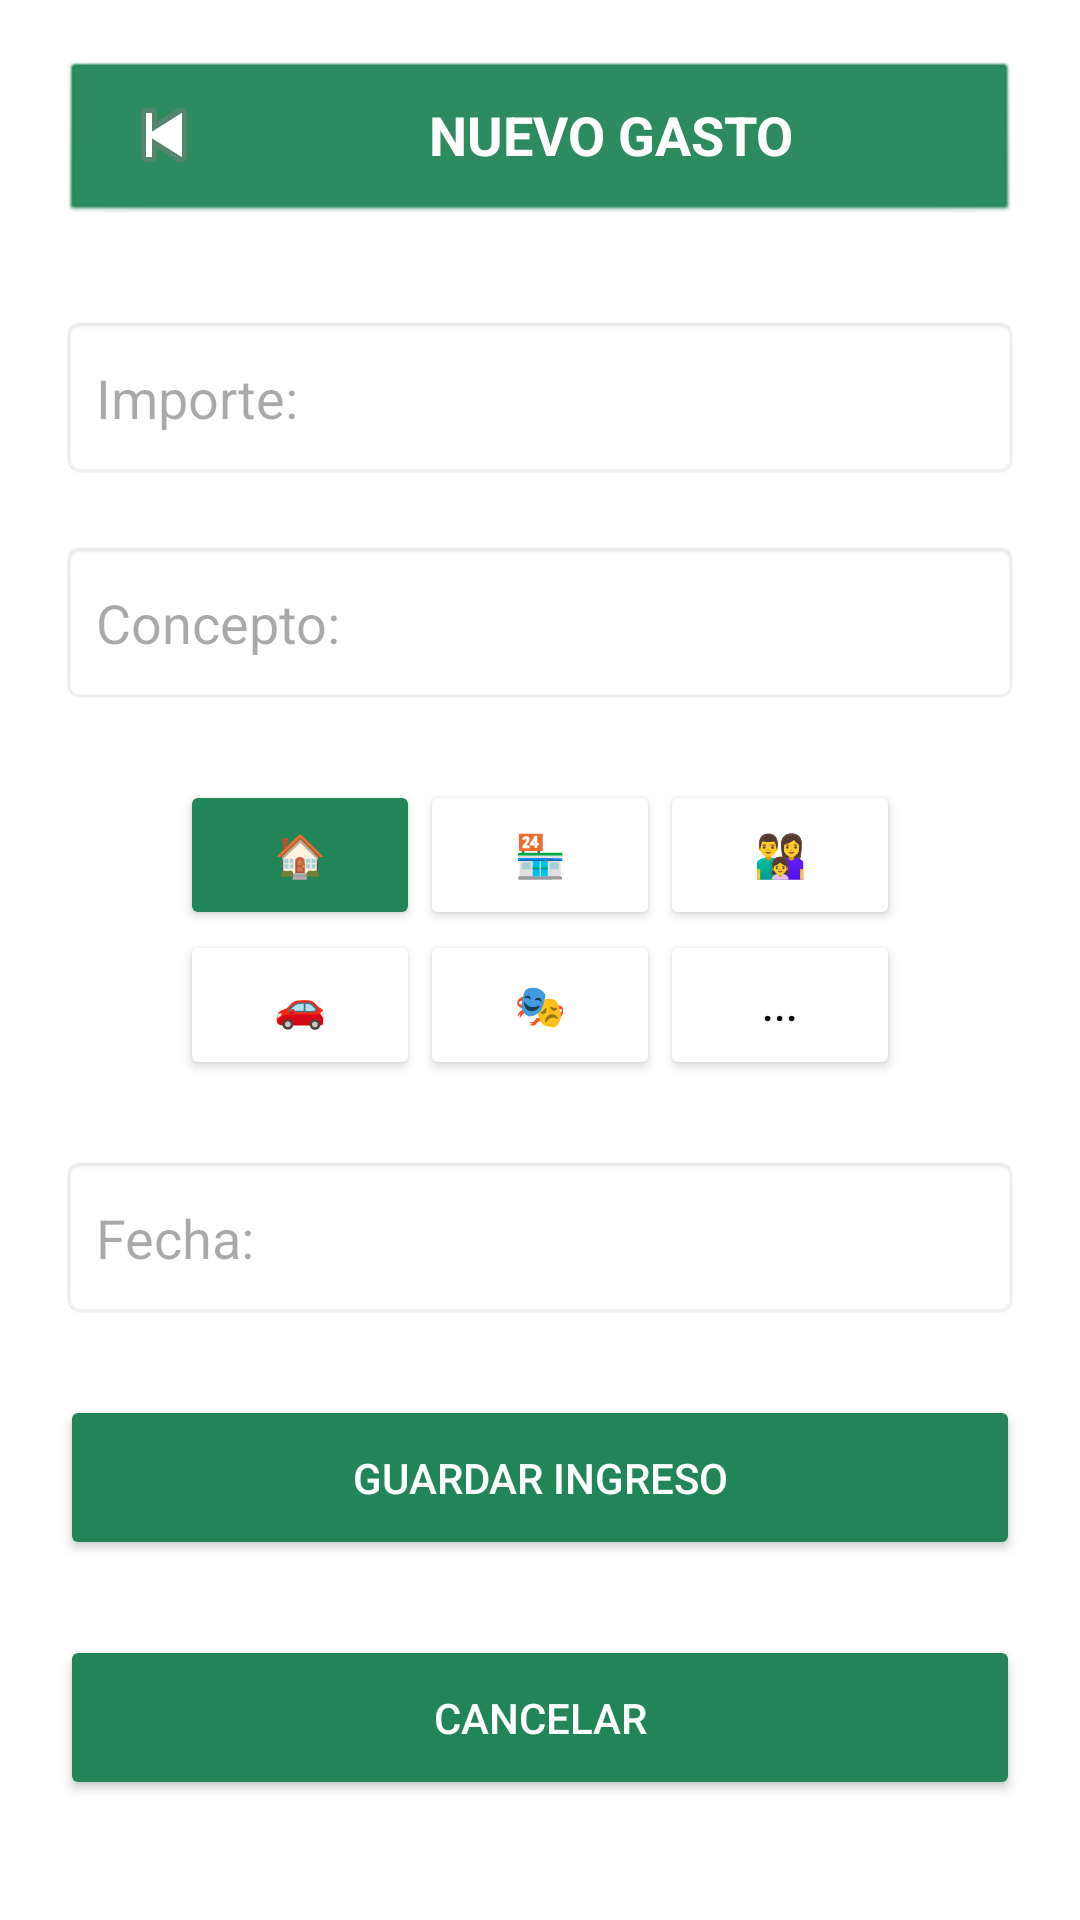

Icons on this 1080px×1920px Android screen, each with the point to tap as [x,y]:
previous: [164,135]
